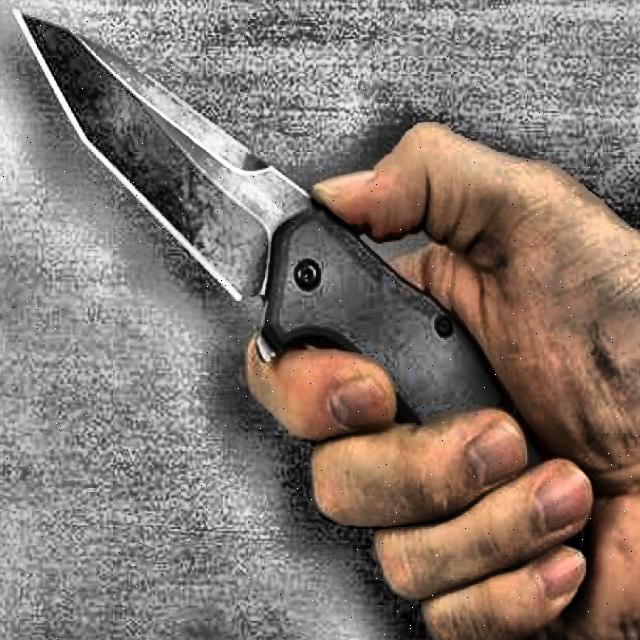knife: (15, 13, 589, 555)
